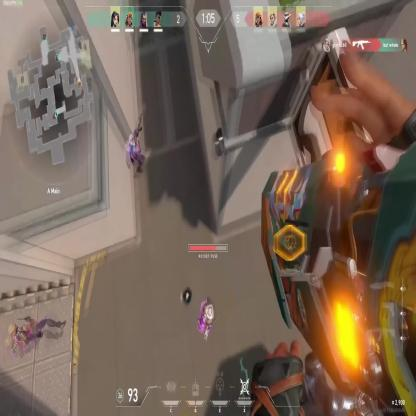enemy: (6, 316, 66, 354), (126, 128, 145, 180), (197, 296, 216, 341)
enemy_head: (8, 324, 17, 338), (206, 306, 212, 319), (129, 132, 134, 143)
